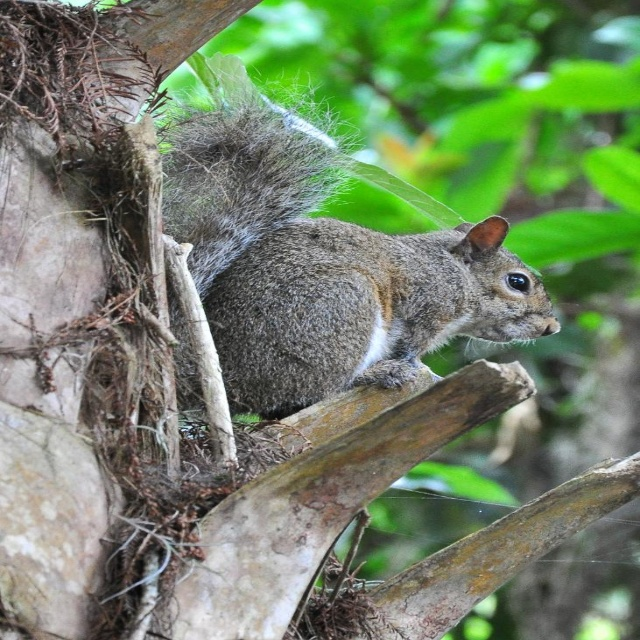Squirrel: (162, 63, 579, 421)
